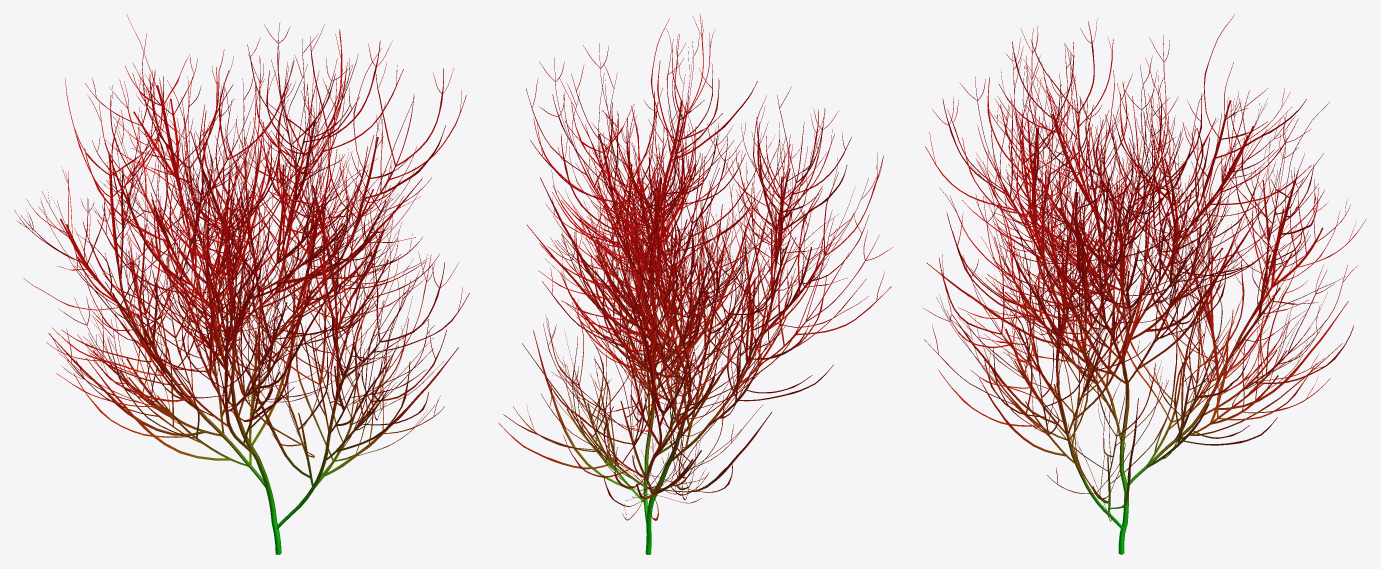
Rendered from Leptadenia_LOD1_Var1_xdkgfgtqx.fbx.
3 views of the same model, side by side, from view 1: azimuth 30°, elevation 25°; view 2: azimuth 150°, elevation 25°; view 3: azimuth 270°, elevation 25° (orthographic). The views are drawn at different scales.
Visible parts, largest first — view 1: _5d5d_Var1_LOD1; view 2: _5d5d_Var1_LOD1; view 3: _5d5d_Var1_LOD1.
Part boxes in pixels (bbox=[...]): _5d5d_Var1_LOD1: bbox=[14, 14, 469, 554]; _5d5d_Var1_LOD1: bbox=[498, 14, 892, 554]; _5d5d_Var1_LOD1: bbox=[922, 14, 1366, 554].
Size of the model in its own units: 119 by 177 by 136.
